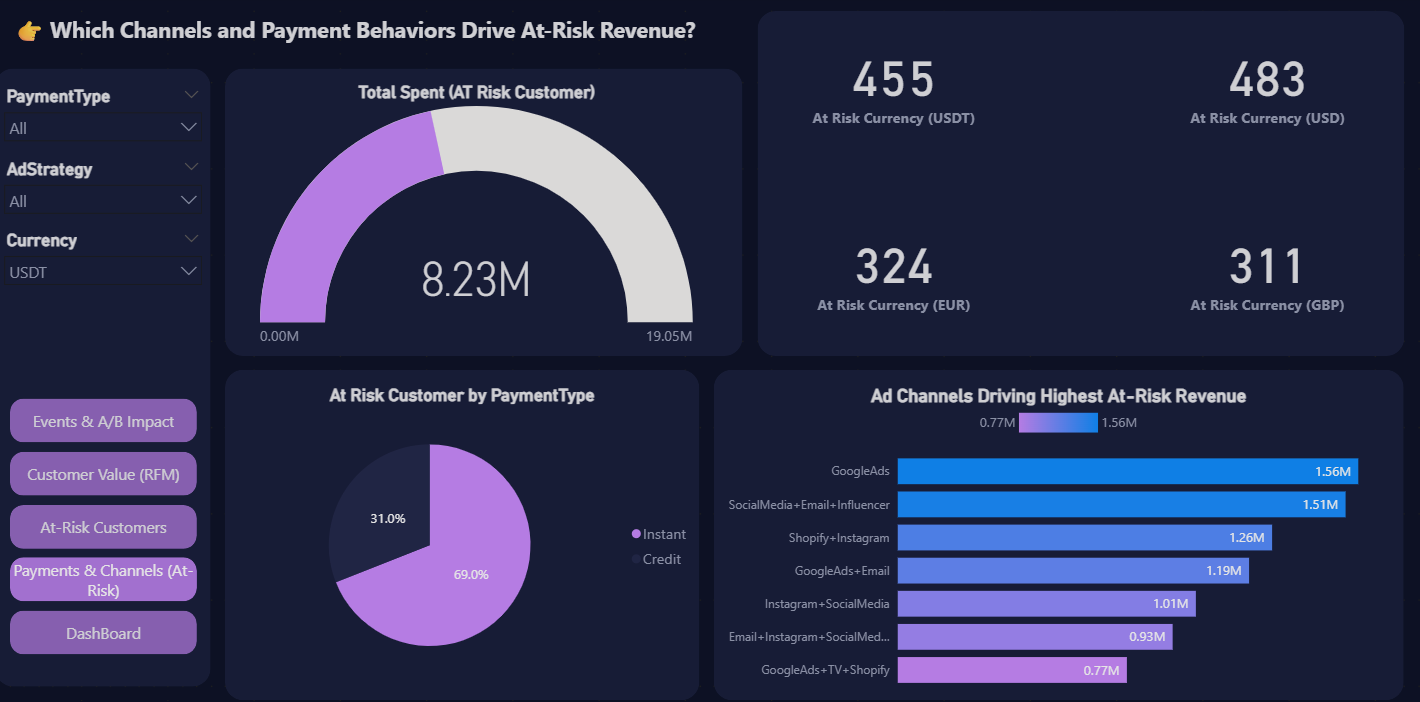

This screenshot's page, from the dashboard's own definition file:
{"tool":"powerbi","page":{"name":"Payments & Channels (At-Risk)","canvas":[1600,800],"ordinal":3},"visuals":[{"type":"shape","box":[848,16,720,384],"z":0},{"type":"shape","box":[256,416,528,368],"z":1000},{"type":"shape","box":[800,416,768,368],"z":2000},{"type":"shape","box":[256,80,576,320],"z":3000},{"type":"clusteredBarChart","title":"Ad Channels Driving Highest At-Risk Revenue","fields":{"Category":["branches.CurrentAdStrategy"],"Y":["Measure Table.Sum Sales (AT Risk Customer)"]},"box":[800,432,768,352],"z":4000},{"type":"card","fields":{"Values":["Measure Table.At Risk Currency (USD)"]},"box":[1264,16,304,160],"z":5000},{"type":"card","fields":{"Values":["Measure Table.At Risk Currency (USDT)"]},"box":[848,16,304,160],"z":6000},{"type":"gauge","title":"Total Spent (AT Risk Customer) ","fields":{"Y":["Measure Table.Sum Sales (AT Risk Customer)"],"MaxValue":["Sum(arpand_ecommerce_dataset.CleanTotalSpent)"]},"box":[256,96,560,304],"z":7000},{"type":"pieChart","fields":{"Category":["arpand_ecommerce_dataset.PaymentType"],"Y":["Measure Table.At Risk Customer"]},"box":[256,432,528,336],"z":8000},{"type":"card","fields":{"Values":["Measure Table.At Risk Currency (EUR)"]},"box":[848,208,304,192],"z":9000},{"type":"card","fields":{"Values":["Measure Table.At Risk Currency (GBP)"]},"box":[1264,208,304,192],"z":10000},{"type":"shape","box":[0,80,240,688],"z":11000},{"type":"slicer","fields":{"Values":["arpand_ecommerce_dataset.PaymentType"]},"box":[0,96,240,80],"z":12000},{"type":"slicer","fields":{"Values":["ad_history.AdStrategy"]},"box":[0,176,240,80],"z":13000},{"type":"slicer","fields":{"Values":["arpand_ecommerce_dataset.Currency"]},"box":[0,256,240,80],"z":14000},{"type":"pageNavigator","box":[16,448,208,288],"z":15000},{"type":"textbox","box":[16,16,800,64],"z":16000}]}

Visuals, with their boxes in screenshot pixels (x1, y1, x2, y2), scaled from the page's 1600x800 canvas onto the 1420x702 screenshot:
shape: rect(753, 14, 1392, 351)
shape: rect(227, 365, 696, 688)
shape: rect(710, 365, 1392, 688)
shape: rect(227, 70, 738, 351)
"Ad Channels Driving Highest At-Risk Revenue" clusteredBarChart: rect(710, 379, 1392, 688)
card - Measure Table.At Risk Currency (USD): rect(1122, 14, 1392, 154)
card - Measure Table.At Risk Currency (USDT): rect(753, 14, 1022, 154)
"Total Spent (AT Risk Customer) " gauge: rect(227, 84, 724, 351)
pieChart - arpand_ecommerce_dataset.PaymentType x Measure Table.At Risk Customer: rect(227, 379, 696, 674)
card - Measure Table.At Risk Currency (EUR): rect(753, 183, 1022, 351)
card - Measure Table.At Risk Currency (GBP): rect(1122, 183, 1392, 351)
shape: rect(0, 70, 213, 674)
slicer - arpand_ecommerce_dataset.PaymentType: rect(0, 84, 213, 154)
slicer - ad_history.AdStrategy: rect(0, 154, 213, 225)
slicer - arpand_ecommerce_dataset.Currency: rect(0, 225, 213, 295)
pageNavigator: rect(14, 393, 199, 646)
textbox: rect(14, 14, 724, 70)
